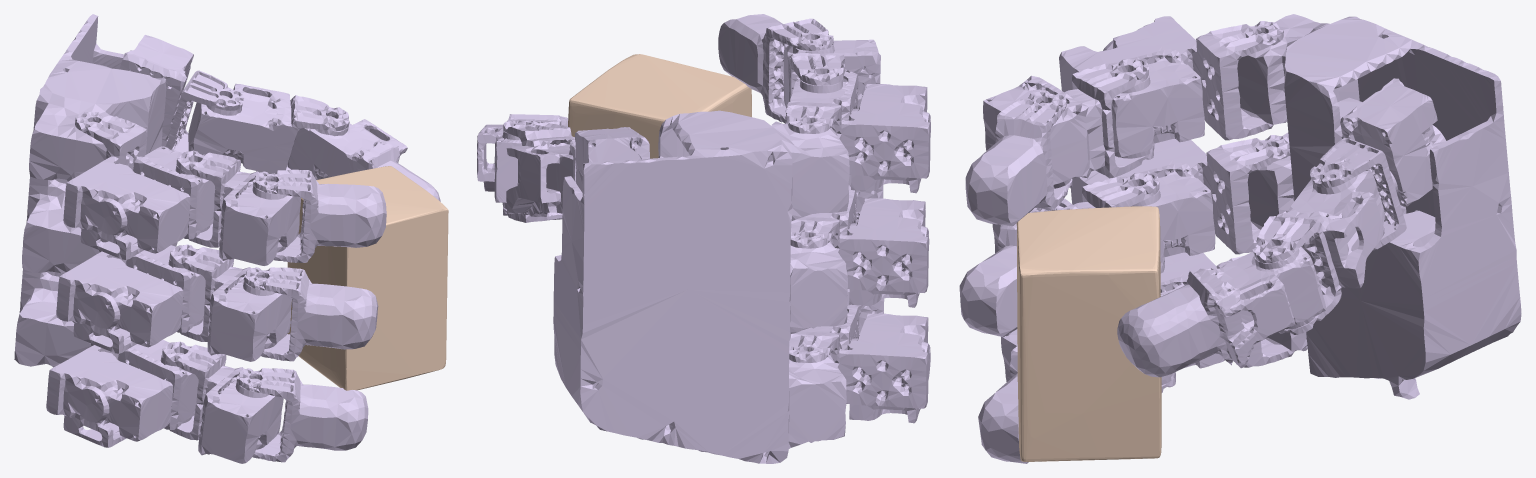
The model's file is 57e53bd93b976c-closed.glb.
3 renders of one model, left to right at view 1: azimuth 30°, elevation 25°; view 2: azimuth 150°, elevation 25°; view 3: azimuth 270°, elevation 25°, orthographic. The views are drawn at different scales.
Parts seen in each view (by area): view 1: LEAP_hand, world; view 2: LEAP_hand, world; view 3: LEAP_hand, world.
Part boxes in pixels (<box>): LEAP_hand: <box>14,14,440,463</box>; world: <box>287,166,448,390</box>; LEAP_hand: <box>477,14,930,463</box>; world: <box>568,54,751,158</box>; LEAP_hand: <box>959,14,1521,463</box>; world: <box>1016,206,1161,461</box>.
Size of the model in its own units: 0.1835 by 0.142 by 0.1993.
